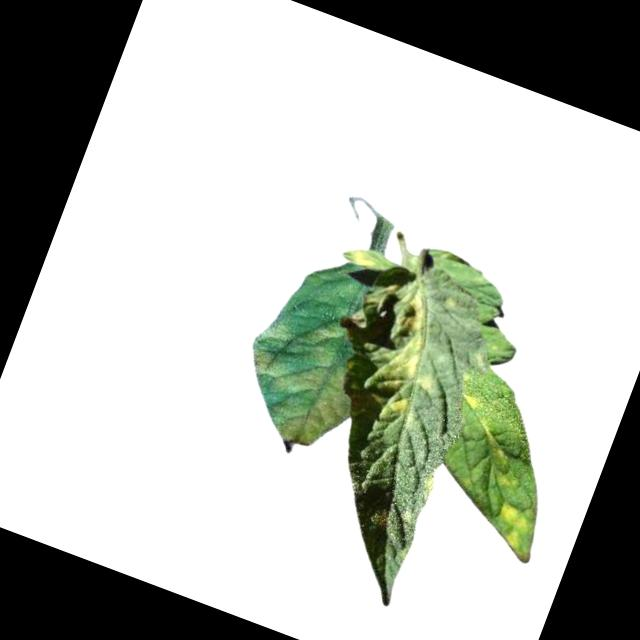Leaf_Mold: (225, 308, 375, 461), (349, 280, 464, 438), (488, 501, 536, 551)
